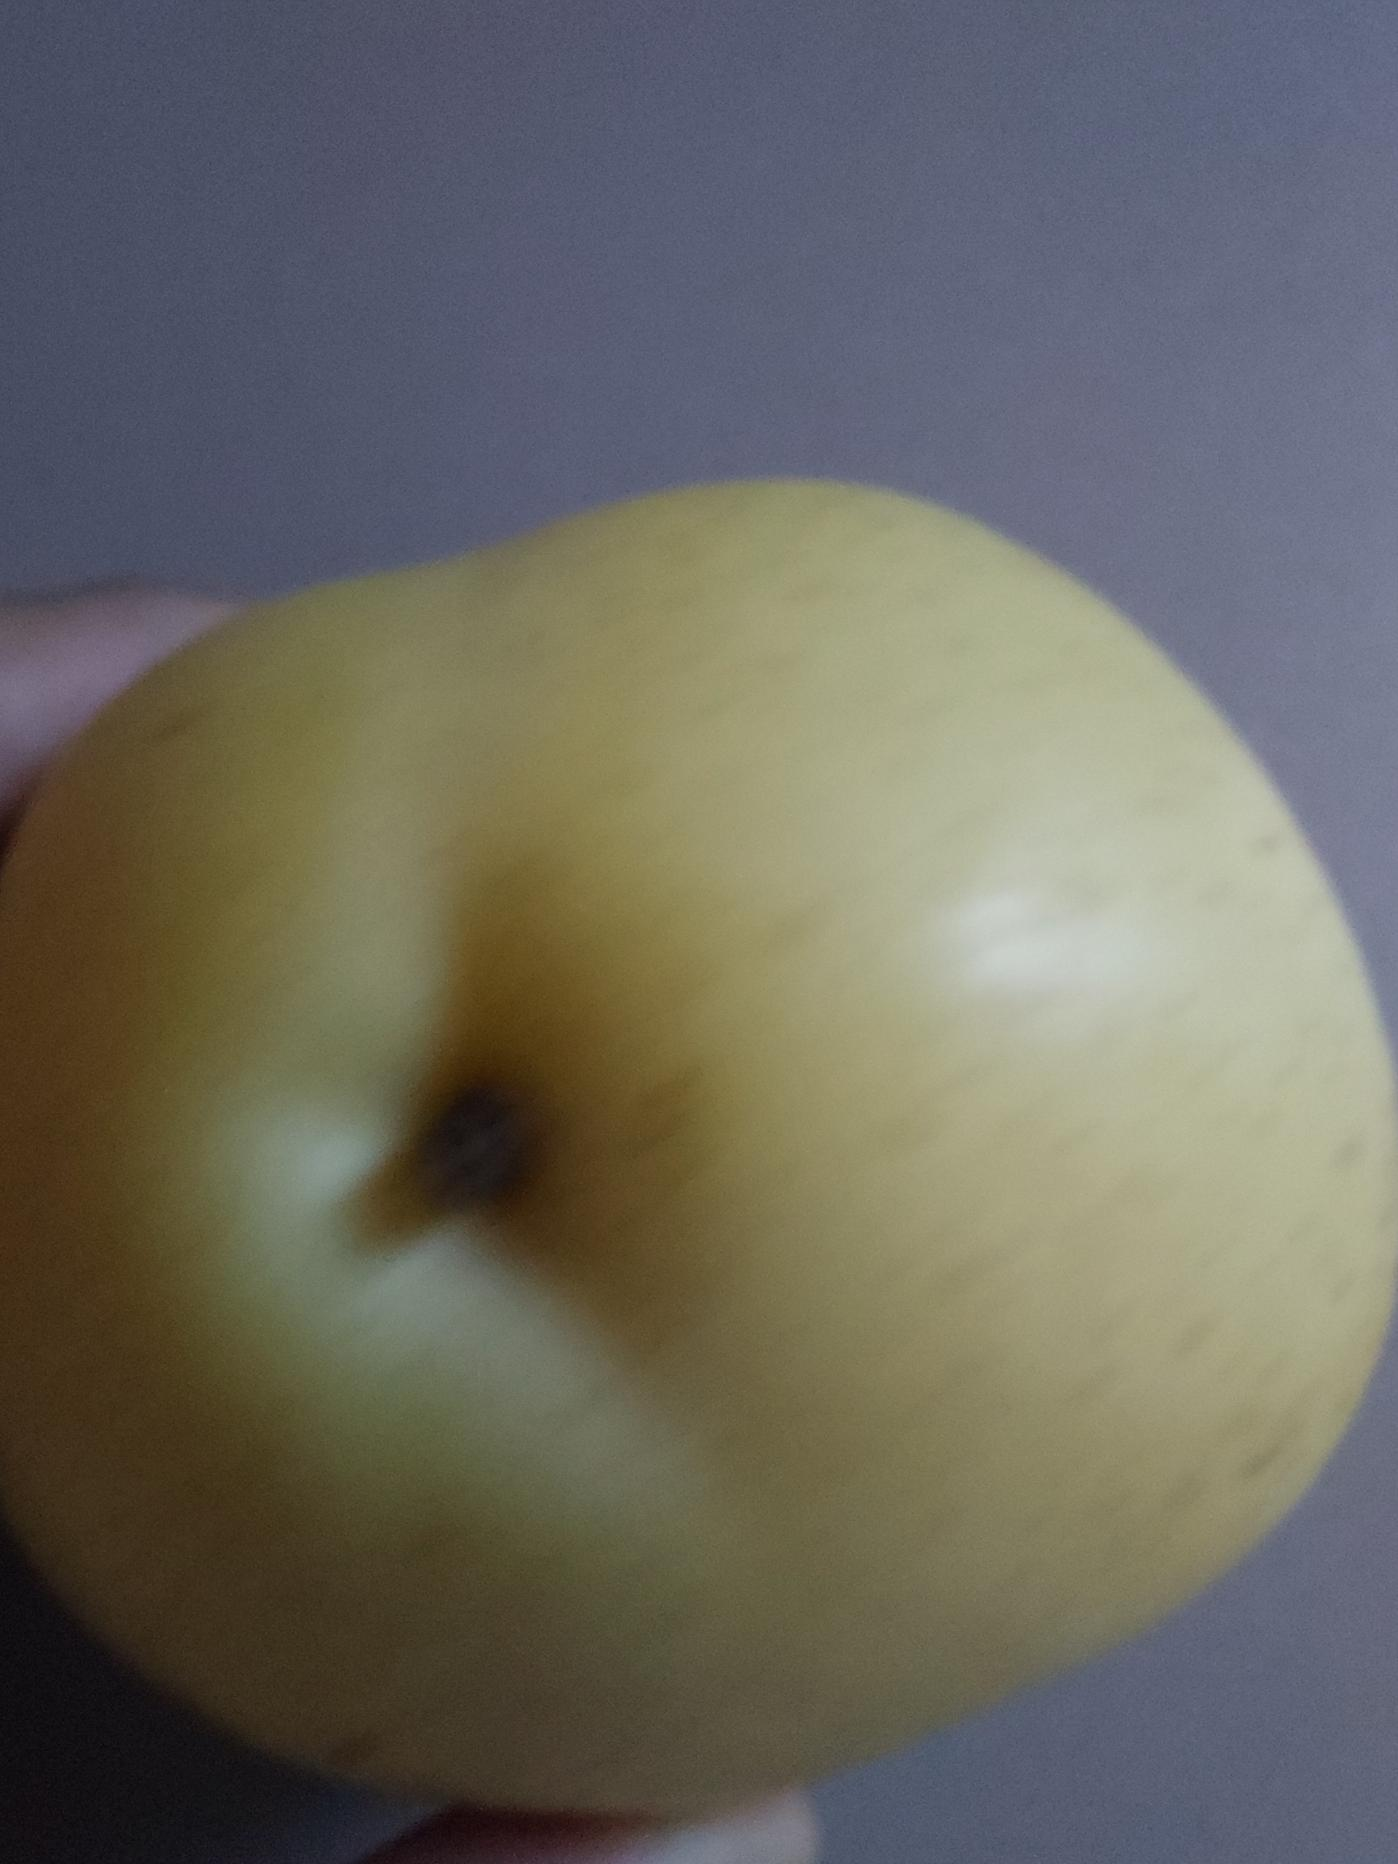Good Pear: (0, 458, 1398, 1824)
